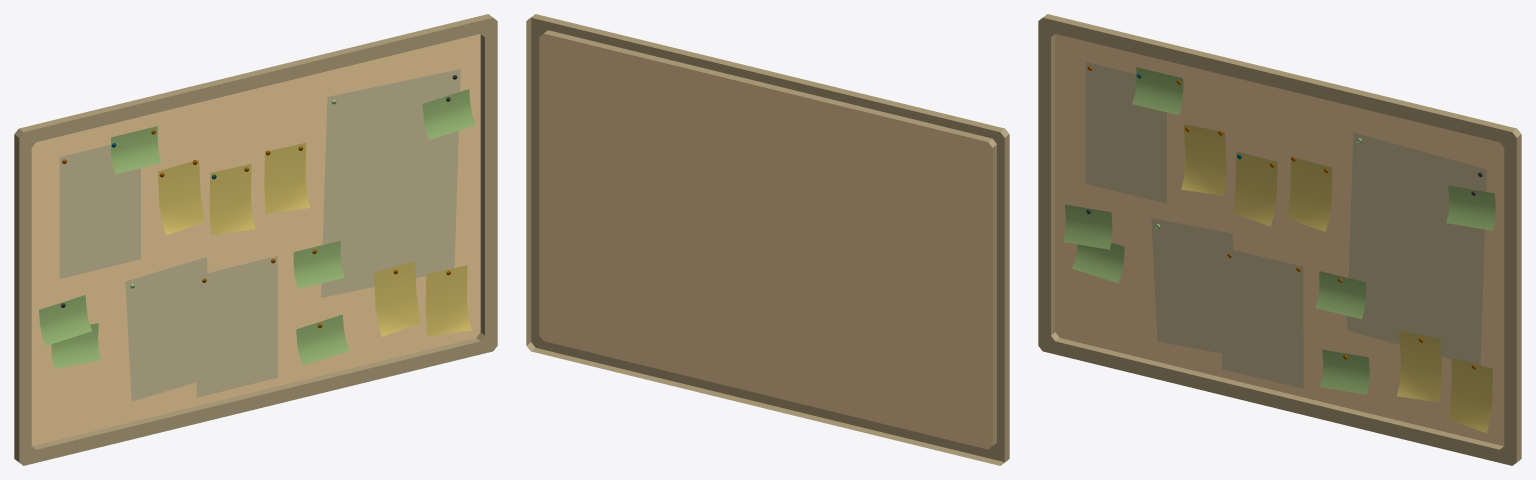
Rendered from SM_Cork_Board_02.fbx.
The picture shows the model from 3 angles, left to right: view 1: azimuth 30°, elevation 25°; view 2: azimuth 150°, elevation 25°; view 3: azimuth 330°, elevation 25°; orthographic projection.
Parts seen in each view (by area): view 1: SM_Cork_Board_02; view 2: SM_Cork_Board_02; view 3: SM_Cork_Board_02.
Part boxes in pixels (x1,y1,x2,y2): SM_Cork_Board_02: (14,14,497,465); SM_Cork_Board_02: (526,14,1009,465); SM_Cork_Board_02: (1038,14,1521,465).
Bounding box in the file's own units: 123 × 82.11 × 3.17.
